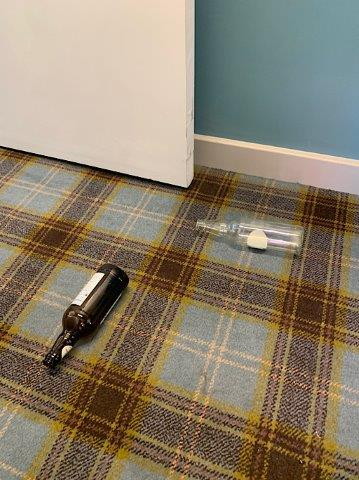botolkaca: (44, 264, 128, 365), (196, 218, 305, 254)
